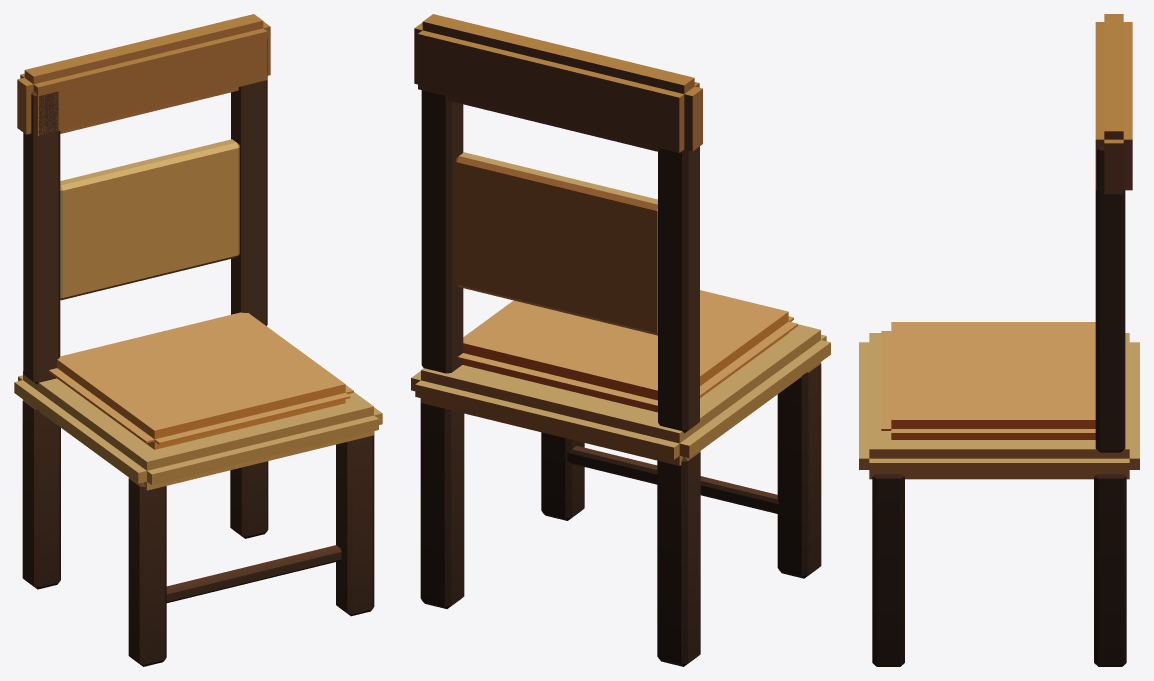
The model's file is chair.glb.
3 views of the same model, side by side, from view 1: azimuth 30°, elevation 25°; view 2: azimuth 150°, elevation 25°; view 3: azimuth 270°, elevation 25° (orthographic). The views are drawn at different scales.
Parts seen in each view (by area): view 1: chair; view 2: chair; view 3: chair.
Boxes of the visible parts, box(x1,y1,x2,y2) form: chair: box(14, 14, 382, 666); chair: box(411, 14, 830, 666); chair: box(859, 14, 1139, 666).
Bounding box in the file's own units: 0.4 × 0.8 × 0.38.
